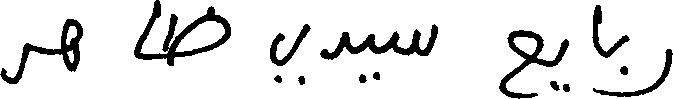X: (163, 1, 227, 70), (502, 25, 540, 98), (629, 34, 672, 98), (271, 19, 308, 89), (395, 19, 434, 60), (0, 38, 28, 88), (136, 0, 156, 64), (63, 14, 81, 76), (323, 27, 344, 64), (557, 34, 566, 96), (620, 30, 627, 98), (594, 0, 596, 97), (367, 29, 372, 56)
